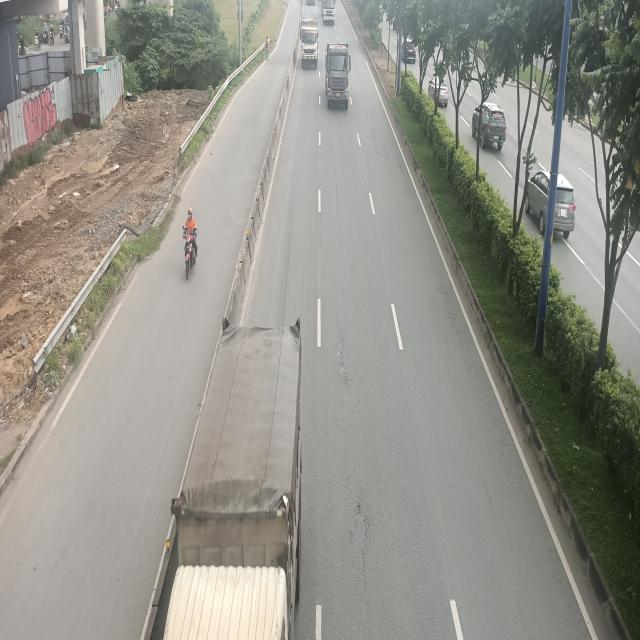container: (326, 38, 353, 110)
truck: (127, 314, 300, 634), (300, 17, 320, 68)
